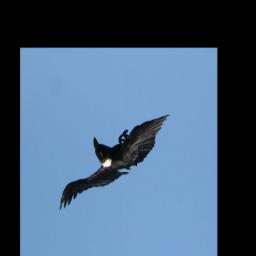Crow: (58, 114, 170, 212)
